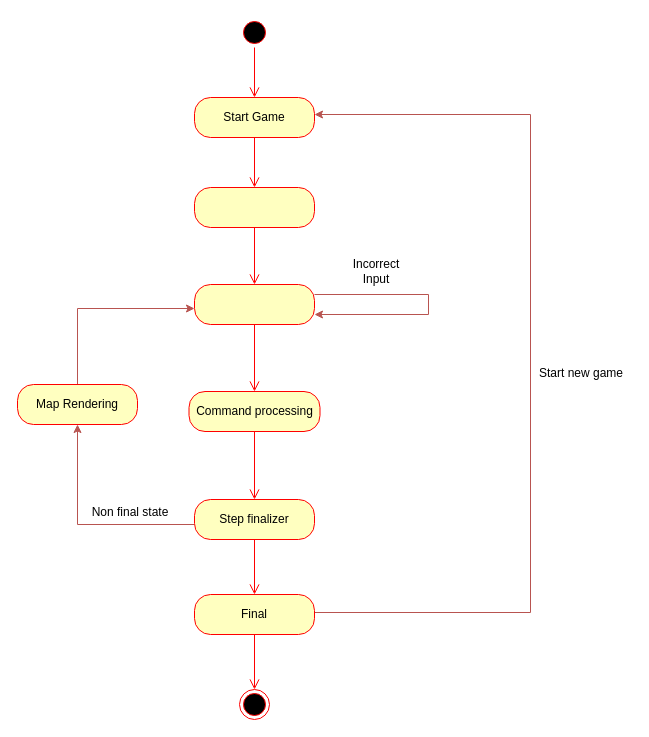
Image size: 649x737. Some labels were removed from this diagram. The box of each missing label's shape, as (x1, y1, x2, y2) in pixels:
Map Generation: (194, 186, 314, 228)
Parse Command: (194, 284, 314, 324)
